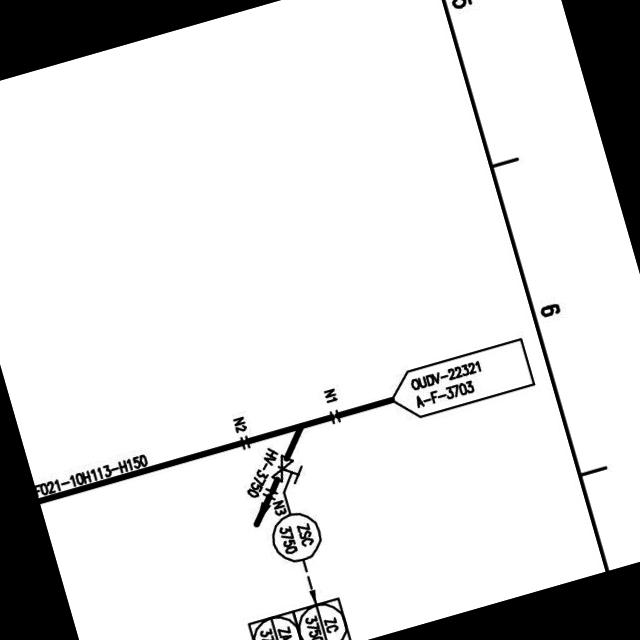HVWT: (267, 448, 310, 489)
